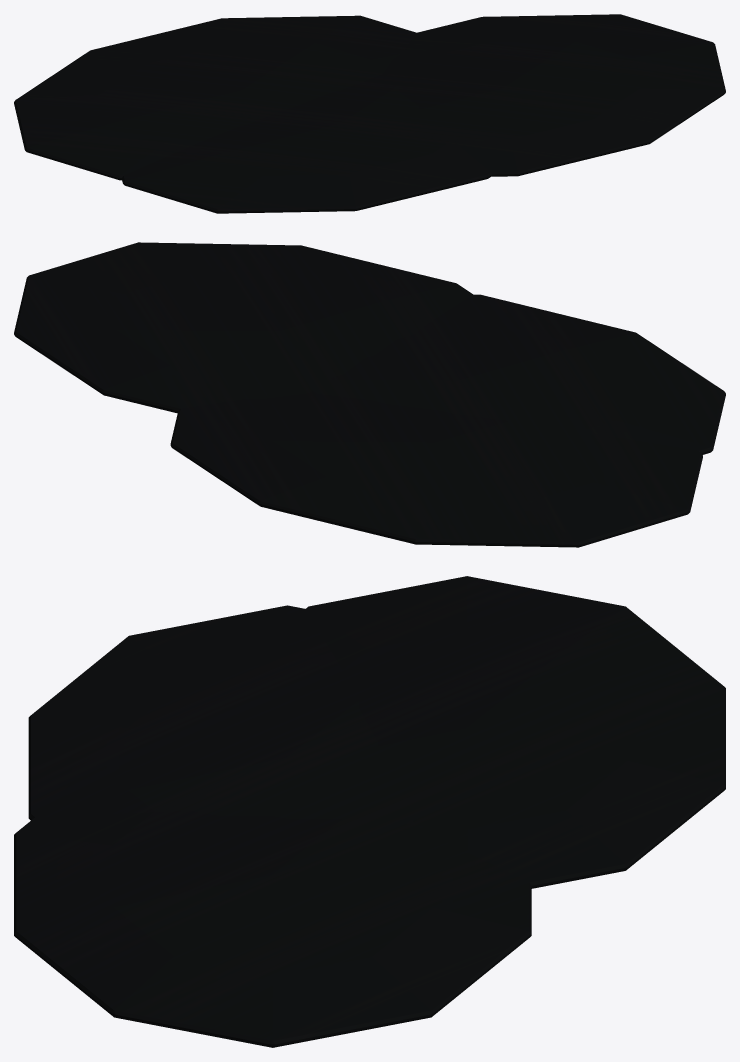
The model's file is PROP-26E3E95F30AF_lod1.glb.
3 views of the same model, one above another, from view 1: azimuth 30°, elevation 25°; view 2: azimuth 150°, elevation 25°; view 3: azimuth 270°, elevation 25° (orthographic). The views are drawn at different scales.
Visible parts, largest first — view 1: surface_hazard.004; view 2: surface_hazard.004; view 3: surface_hazard.004.
Boxes of the visible parts, x1,y1,x2,y2 form: surface_hazard.004: (14, 14, 725, 213); surface_hazard.004: (14, 242, 725, 547); surface_hazard.004: (14, 576, 725, 1047).
Bounding box in the file's own units: 1.66 × 0.036 × 1.07.
1 material, 1 textured.
